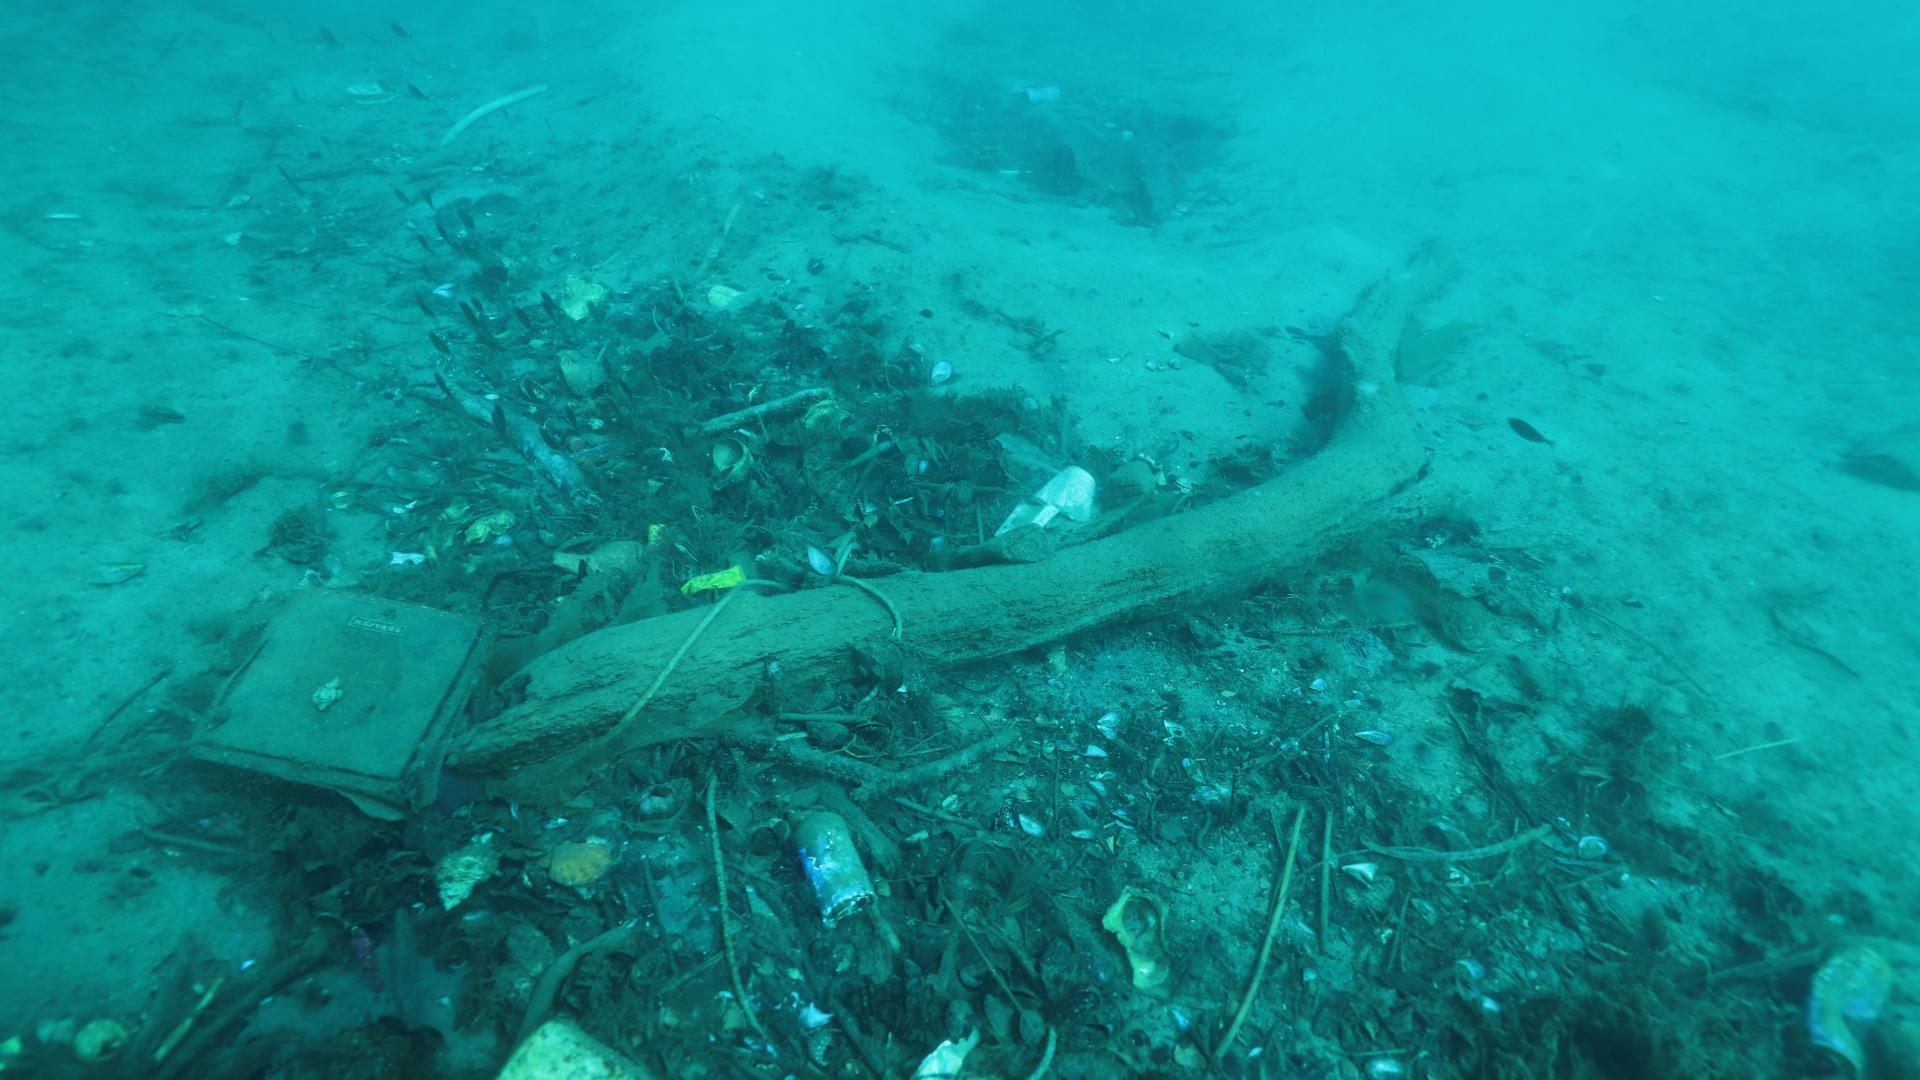wood: (447, 236, 1458, 767)
